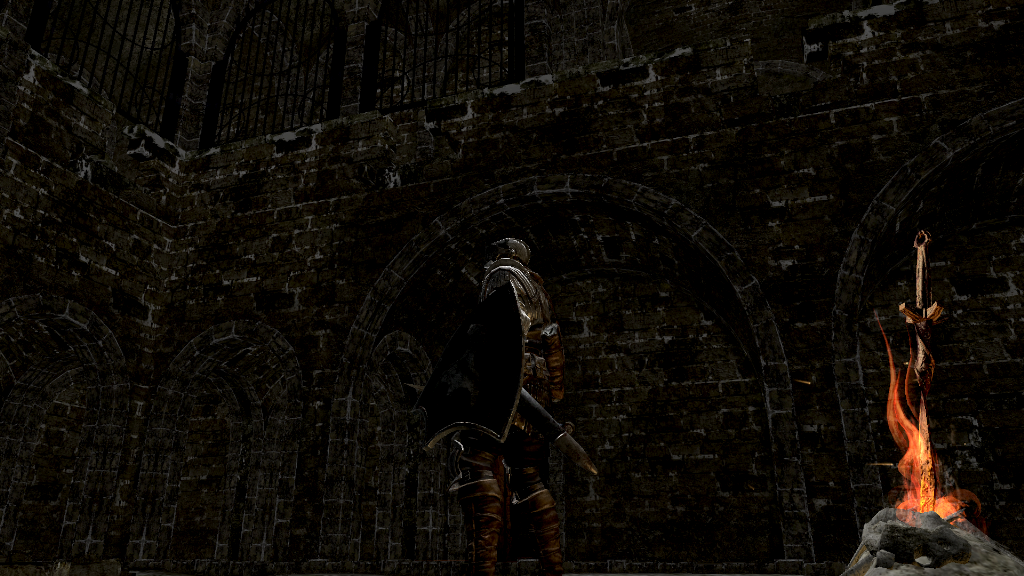bonfire: (858, 227, 992, 567)
player: (411, 235, 599, 576)
